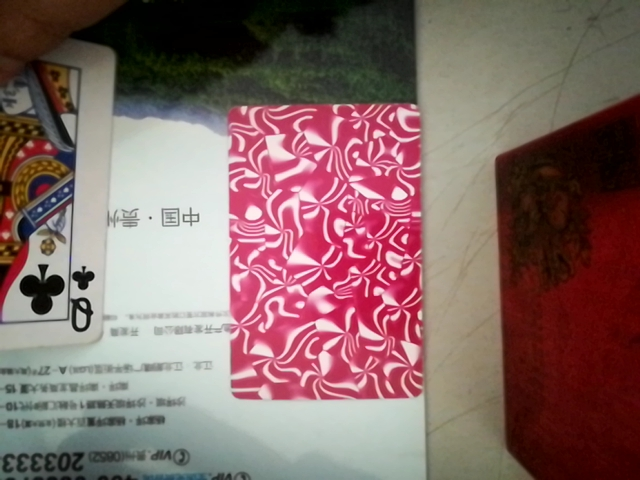mh q: (0, 6, 125, 380)
